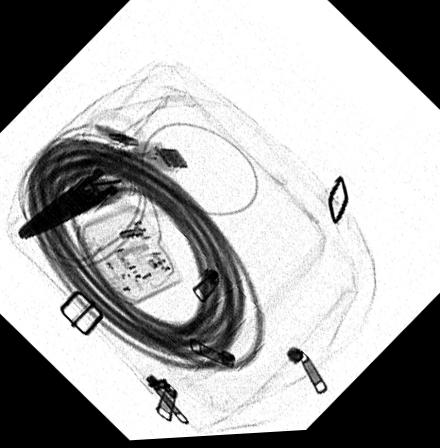Scissors: (12, 104, 186, 245)
